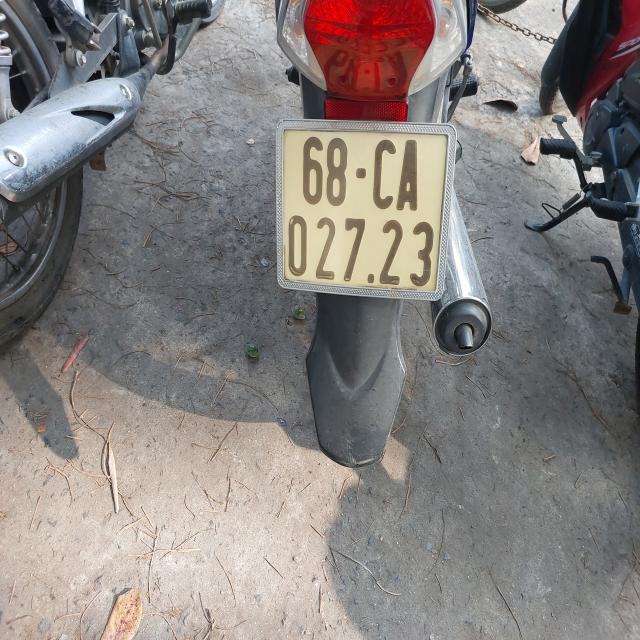0: (287, 214, 306, 277)
2: (379, 220, 403, 282), (314, 218, 336, 280)
3: (410, 222, 437, 289)
6: (302, 134, 323, 203)
7: (344, 217, 368, 282)
8: (327, 137, 348, 206)
A: (396, 137, 422, 212)
C: (372, 140, 396, 210)
